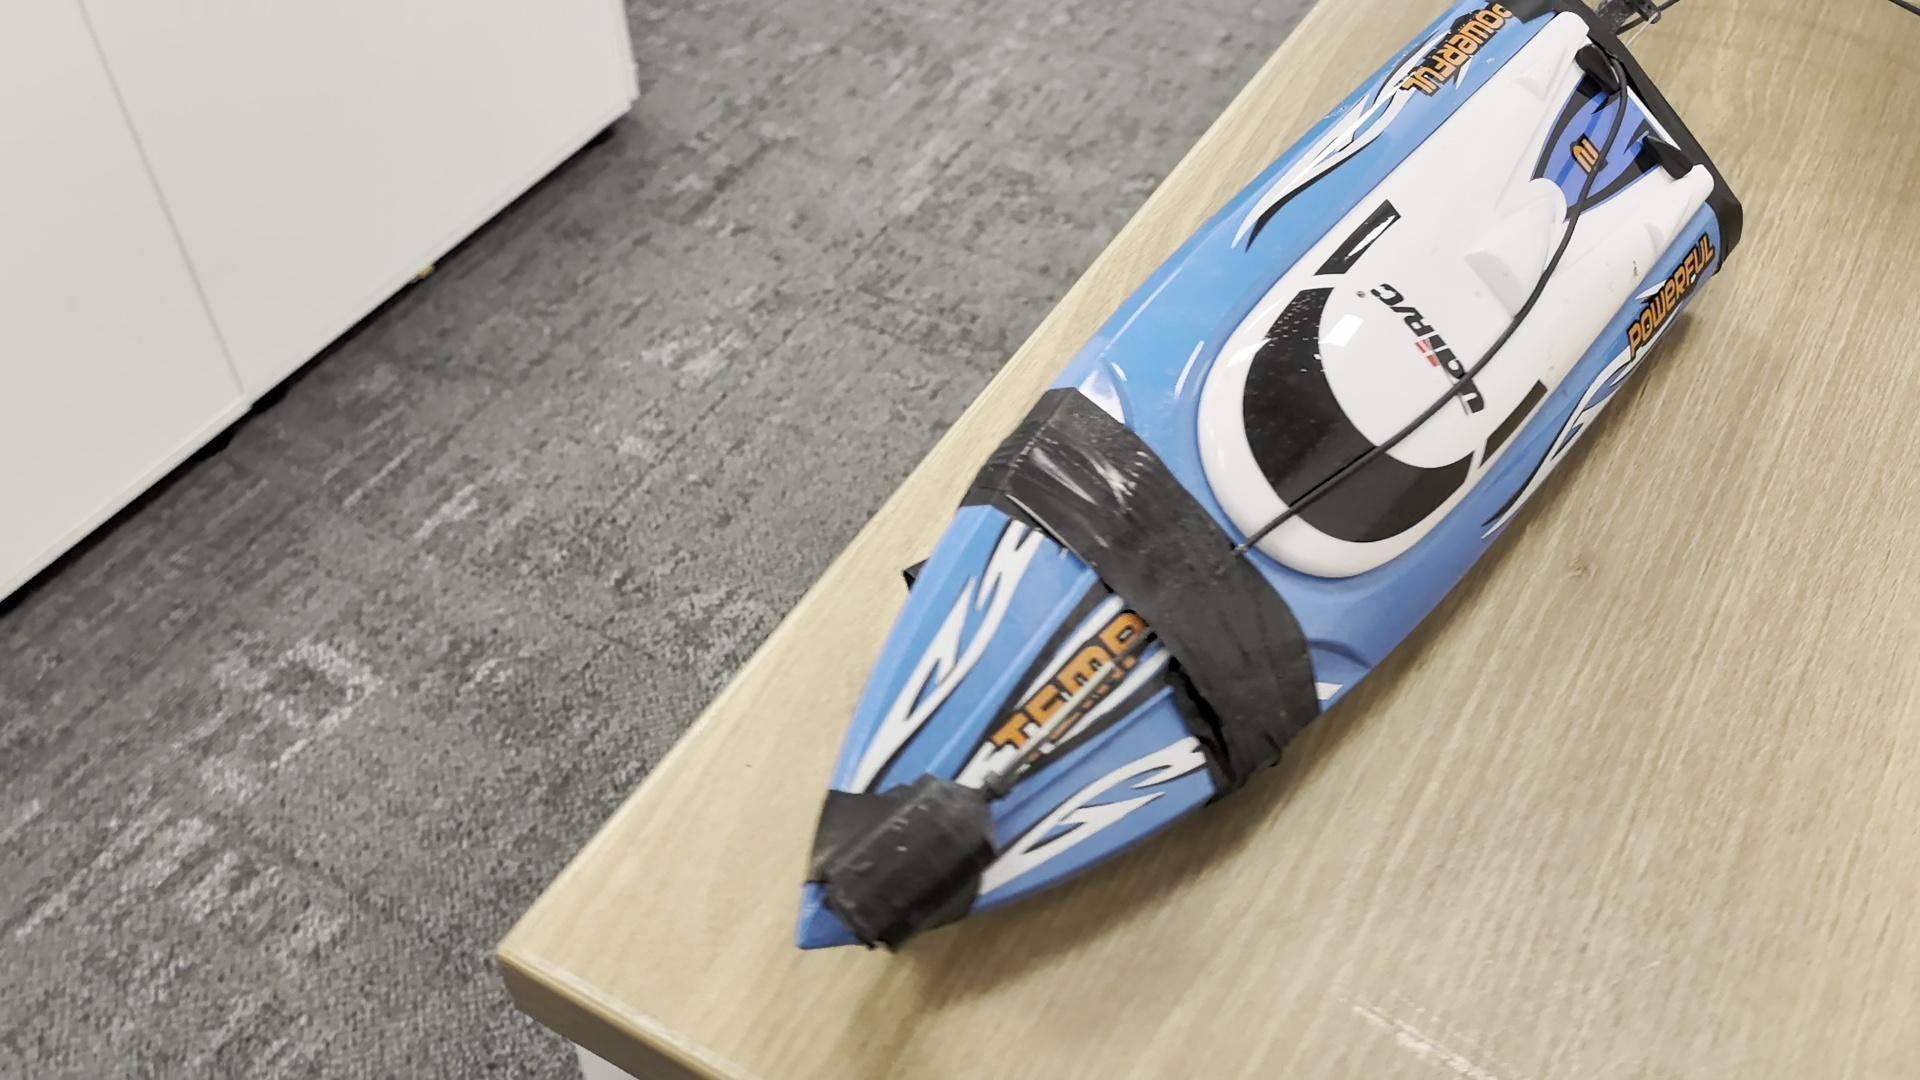Boat: (789, 3, 1739, 956)
